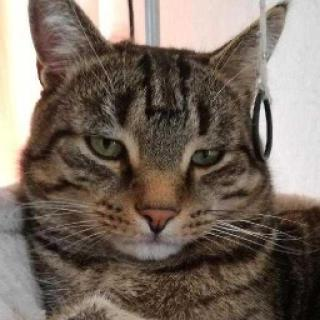cat: (18, 5, 296, 275)
nose: (134, 188, 184, 240)
